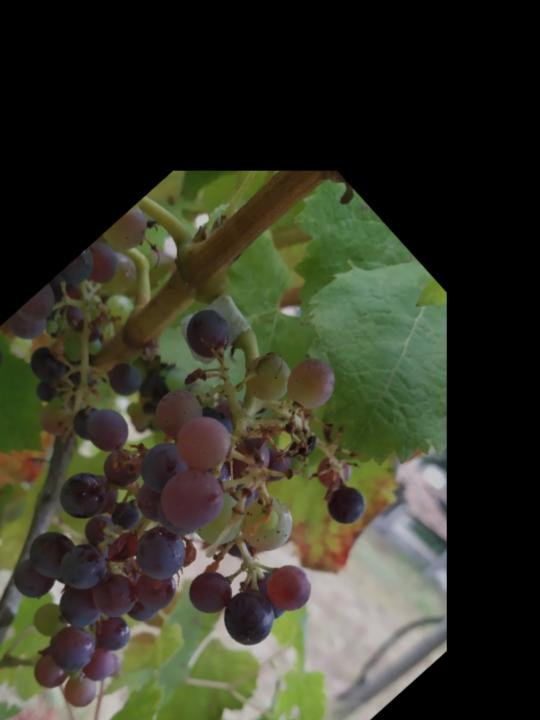grape: (0, 202, 446, 720)
